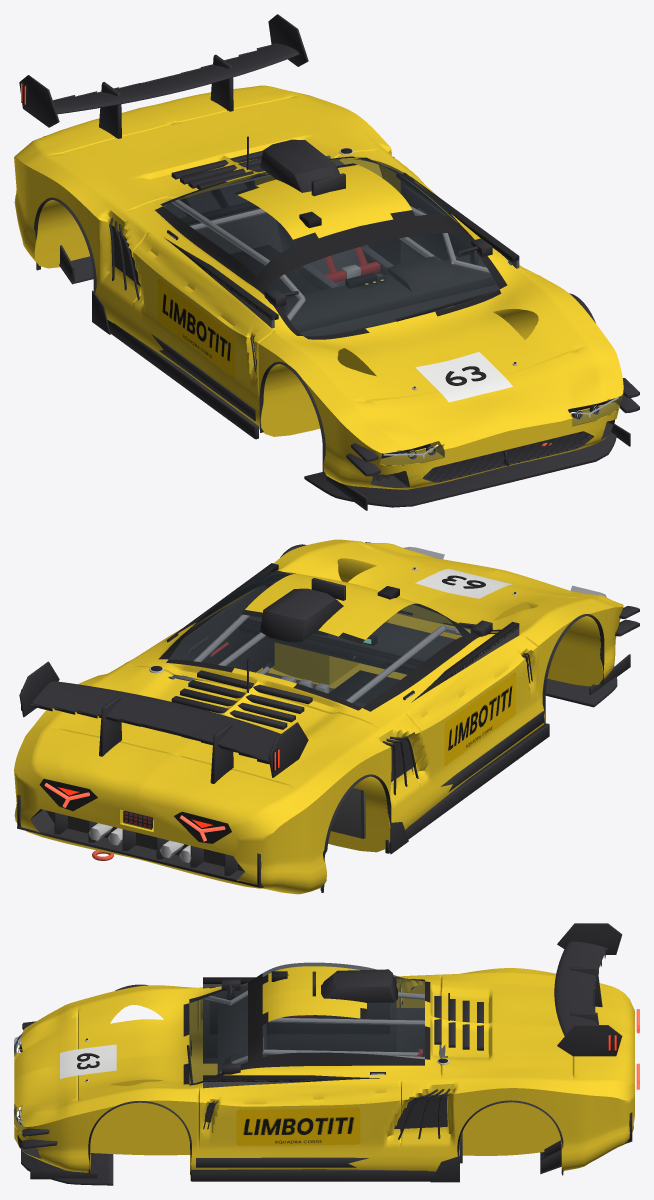
Rendered from limbotiti_caravan.glb.
3 renders of one model, top to bottom at view 1: azimuth 30°, elevation 25°; view 2: azimuth 150°, elevation 25°; view 3: azimuth 270°, elevation 25°, orthographic. The views are drawn at different scales.
Parts seen in each view (by area): view 1: limbotiti_caravan; view 2: limbotiti_caravan; view 3: limbotiti_caravan.
Boxes of the visible parts, x1,y1,x2,y2 form: limbotiti_caravan: (14,14,639,510); limbotiti_caravan: (14,539,639,894); limbotiti_caravan: (14,923,639,1185).
Size of the model in its own units: 2.15 by 1.25 by 4.65.
Materials: 24 (1 with a texture image).
